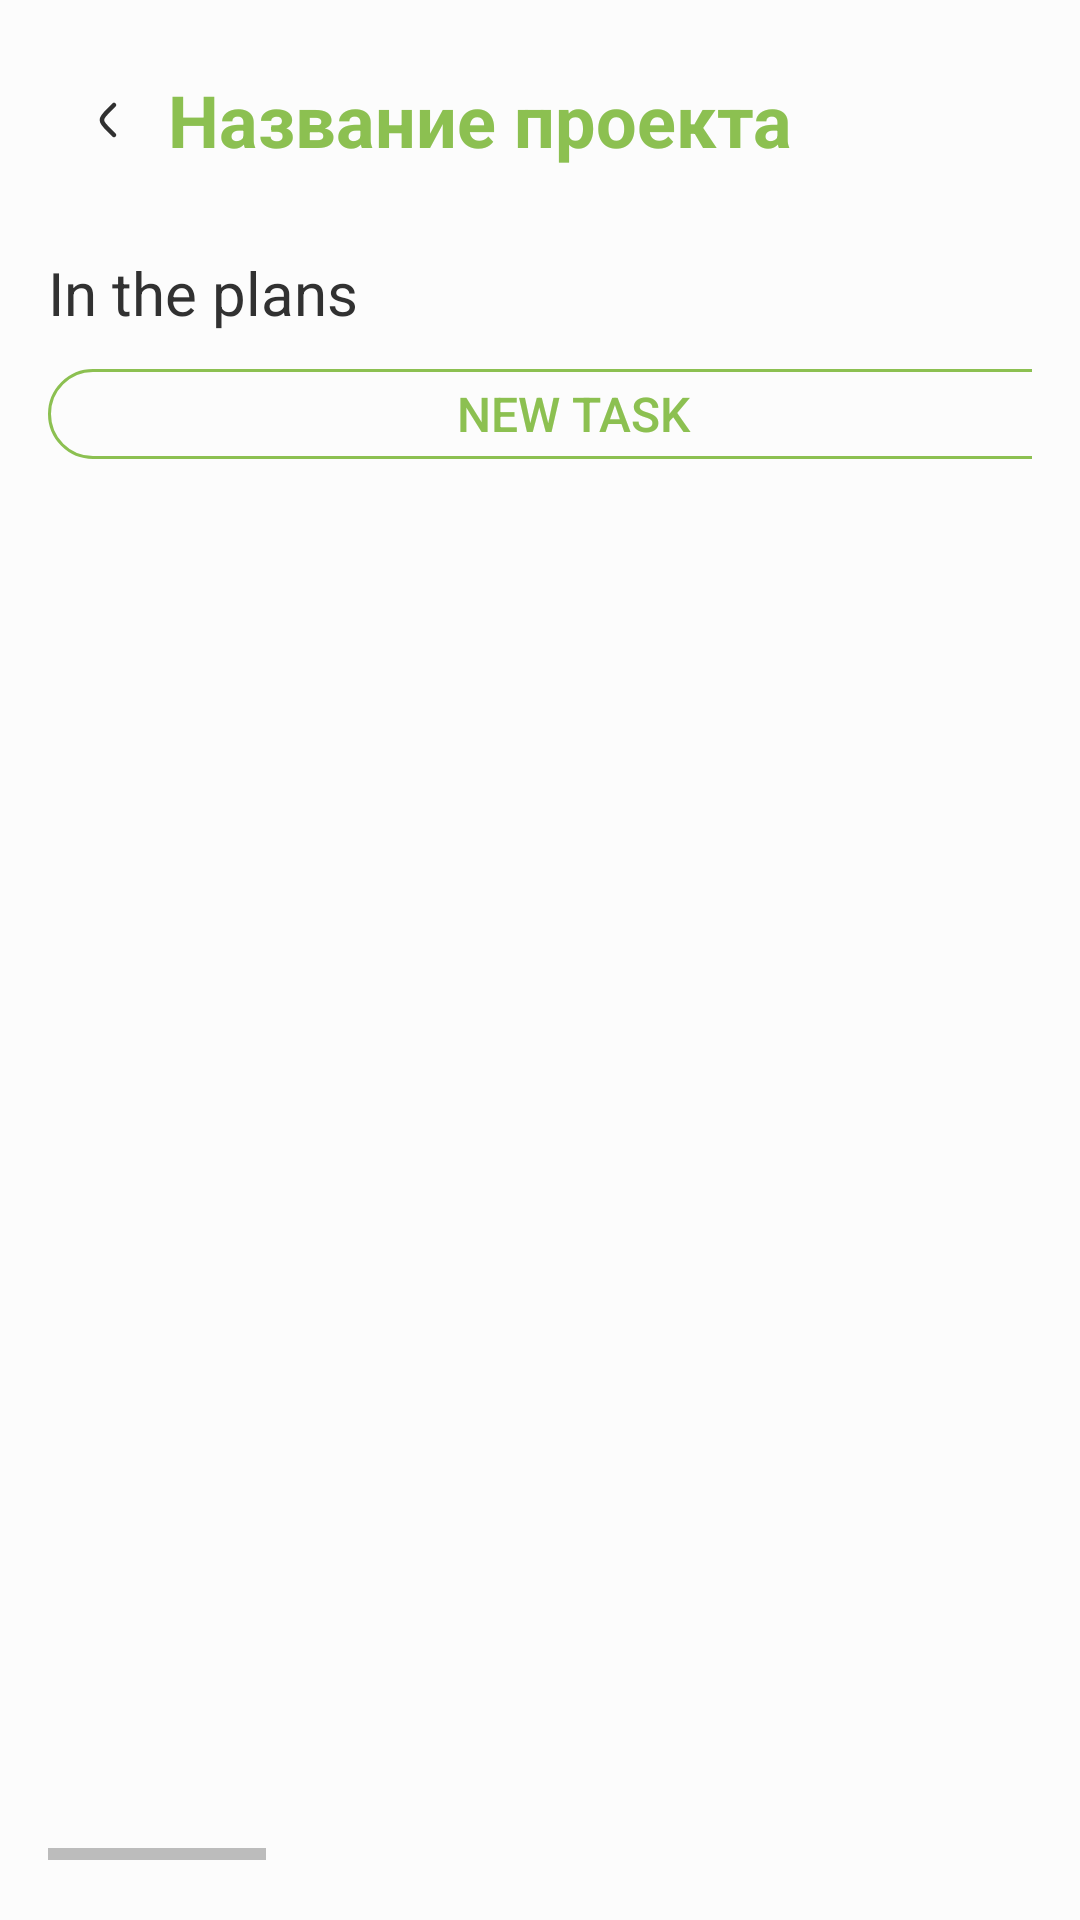

Icons on this 1080×1920 Android screen, each with its box as (x1, y1, x2, y2):
arrow left: (99, 102, 117, 138)
